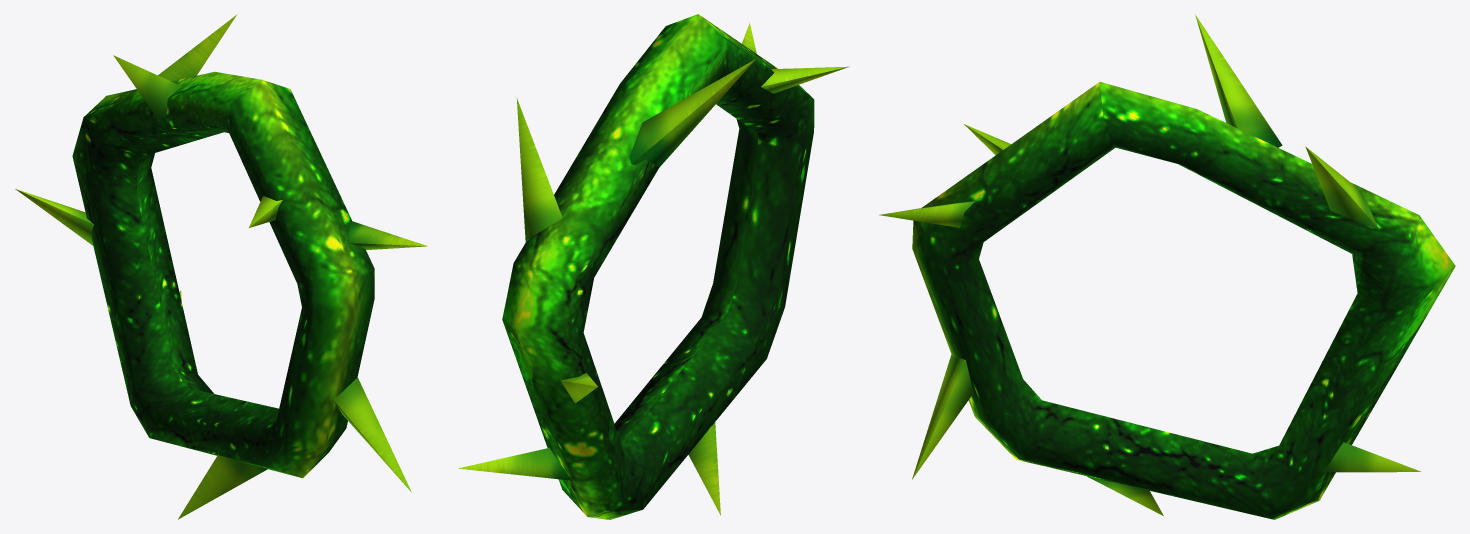
The model's file is tengman.FBX.
3 views of the same model, side by side, from view 1: azimuth 30°, elevation 25°; view 2: azimuth 150°, elevation 25°; view 3: azimuth 270°, elevation 25° (orthographic). The views are drawn at different scales.
Visible parts, largest first — view 1: tengtiao; view 2: tengtiao; view 3: tengtiao.
Boxes of the visible parts, bbox=[...] form: tengtiao: bbox=[15, 14, 427, 519]; tengtiao: bbox=[458, 14, 849, 519]; tengtiao: bbox=[879, 14, 1455, 519].
Size of the model in its own units: 17.35 by 47.28 by 43.15.
Materials: 1 (1 with a texture image).
